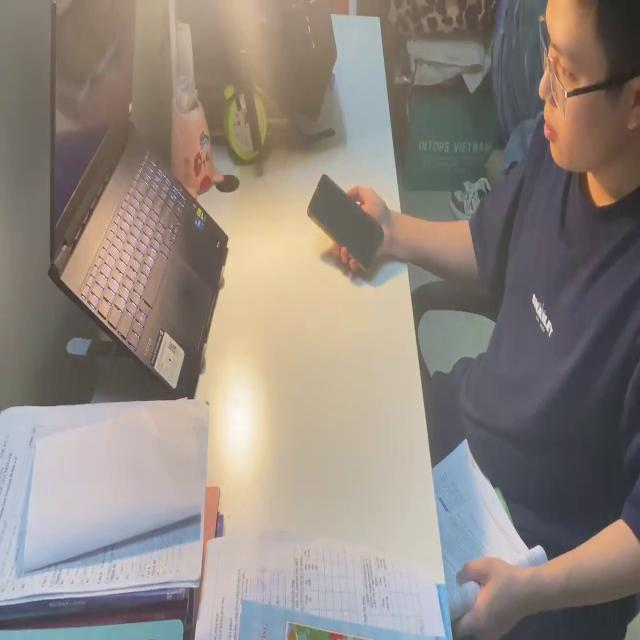book: (0, 386, 207, 640), (209, 532, 448, 640), (427, 438, 552, 619)
laptop: (44, 0, 230, 402)
phone: (306, 169, 384, 279)
student: (329, 10, 640, 640)
